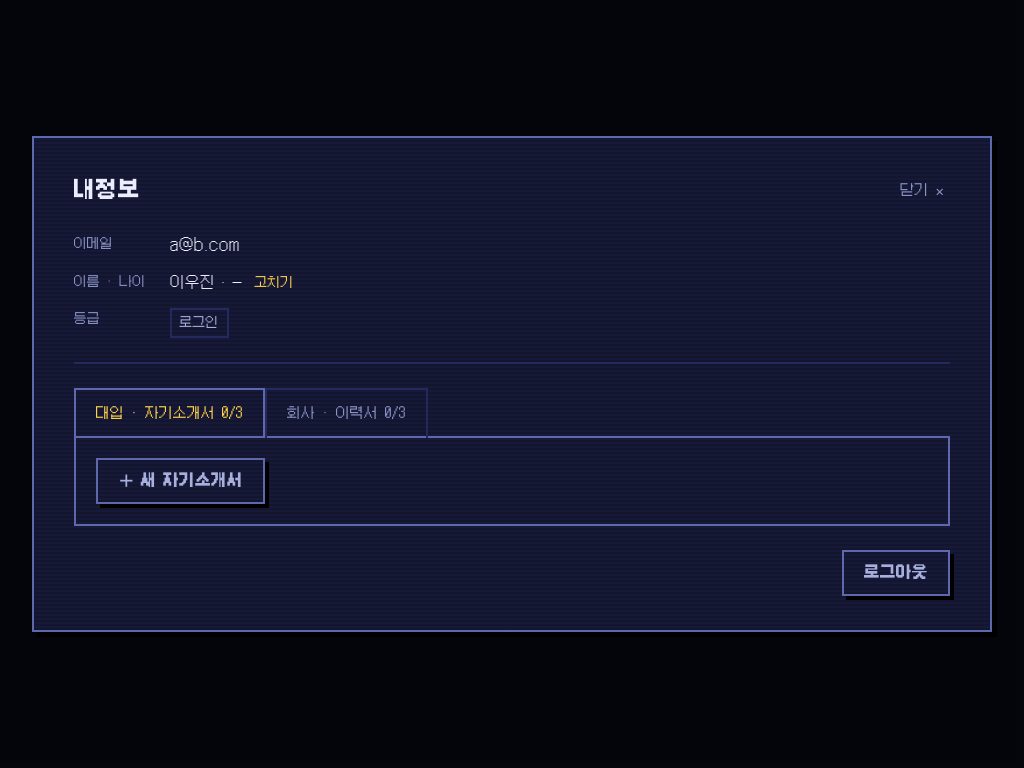
MeModal — 이력서 슬롯 › 탭을 바꾸면 쓰던 편집기는 닫힌다 — 종류가 섞이지 않게
Click the button "＋ 새 자기소개서" at [181, 481], box [96, 458, 265, 504]
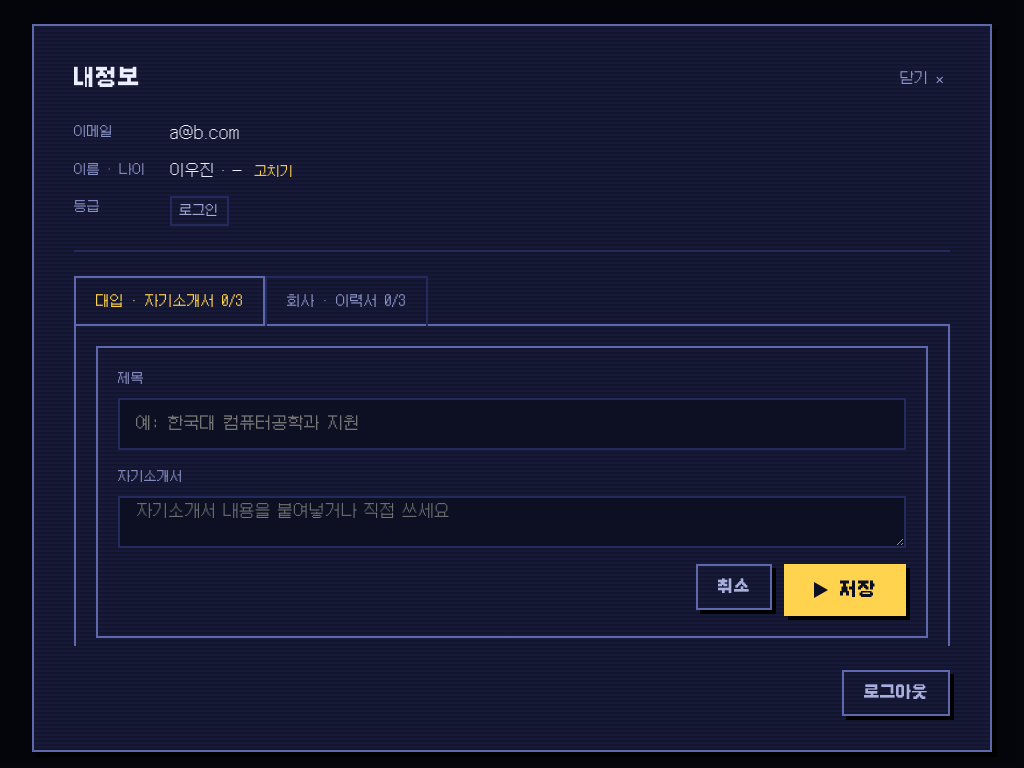
Check: the field with test id "slot-title" is shown, box [118, 398, 906, 450]
Click the button "회사 · 이력서 0/3" at [346, 301], box [265, 276, 428, 326]
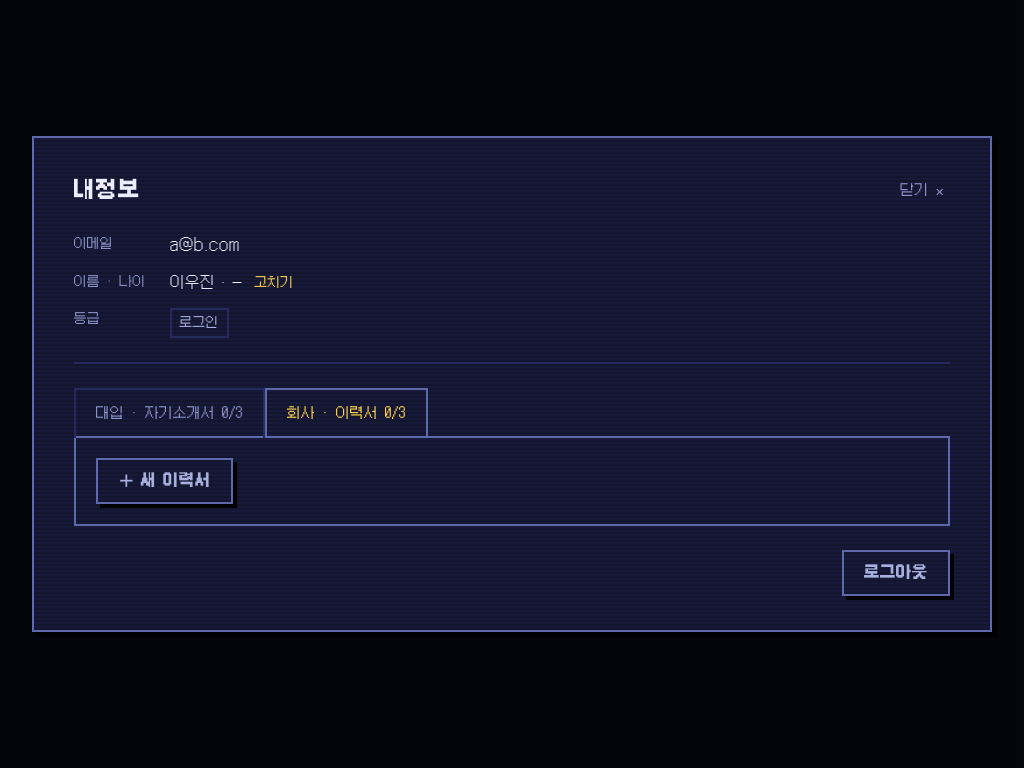
Check: the field with test id "slot-title" is gone
